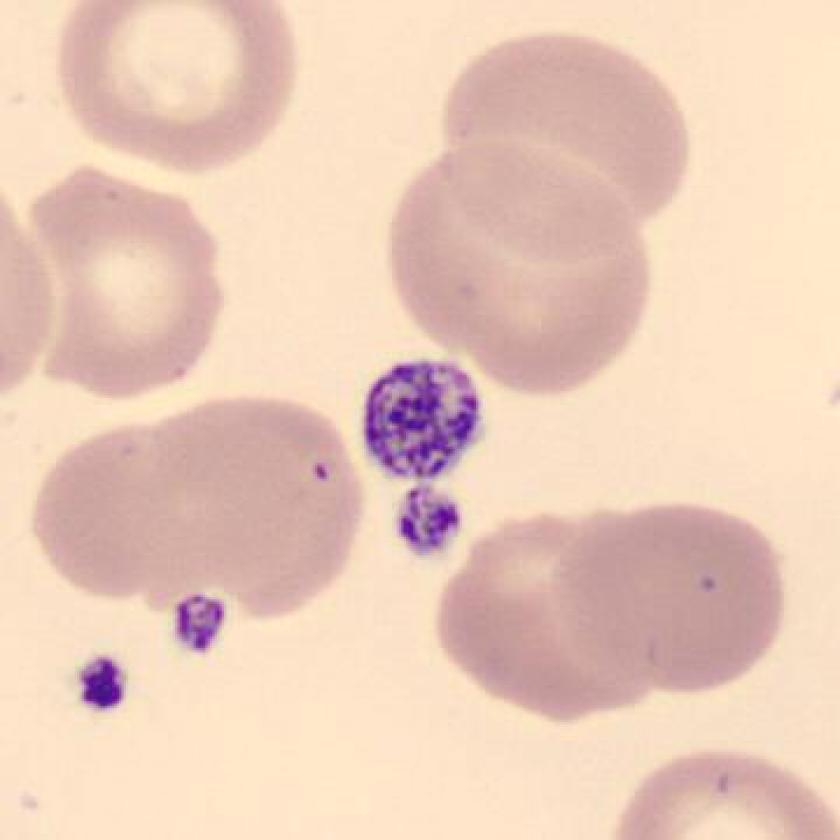platelets: (363, 346, 491, 489), (379, 480, 472, 561), (167, 584, 234, 665), (74, 644, 130, 716)
